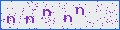n: (75, 7, 84, 15), (43, 9, 52, 17), (64, 15, 72, 23), (26, 16, 34, 24), (7, 16, 15, 23)
